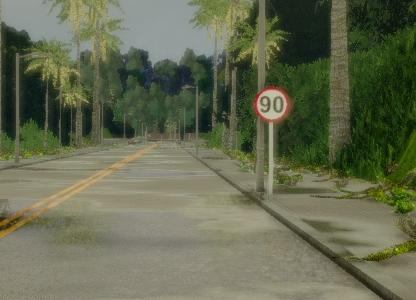Speed_90: (253, 83, 291, 123)
